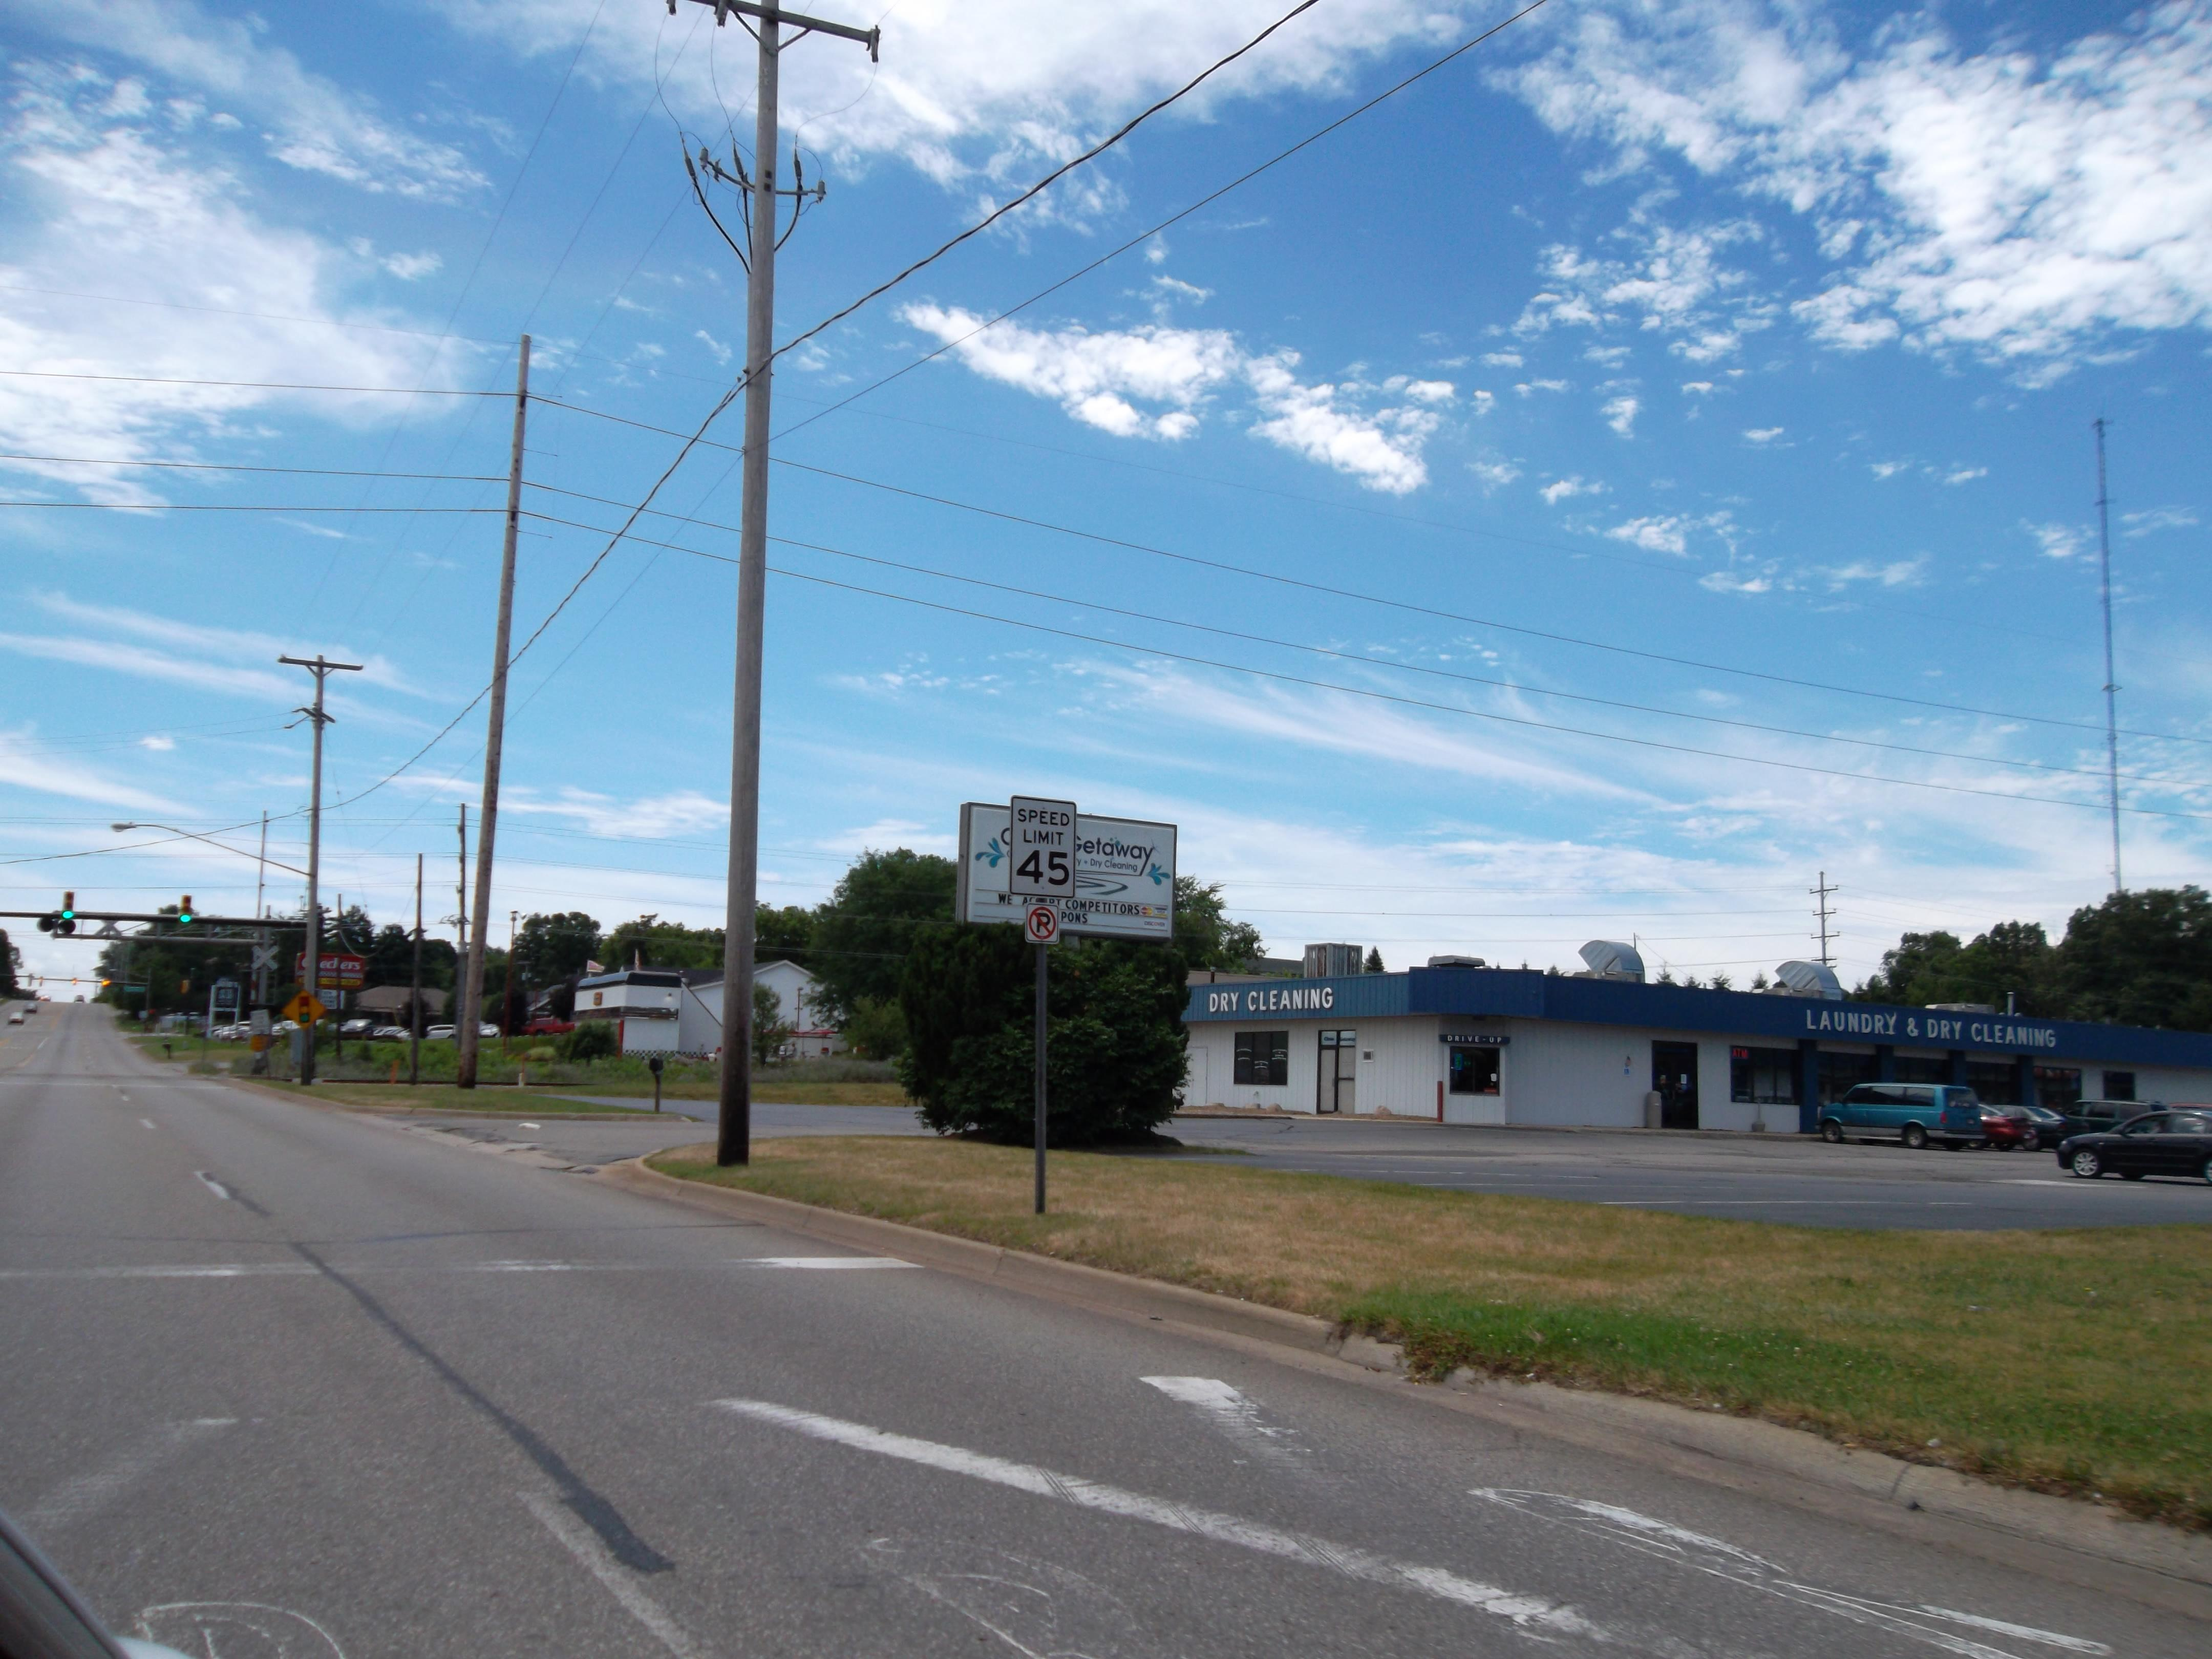regulatory: (1010, 788, 1080, 904)
